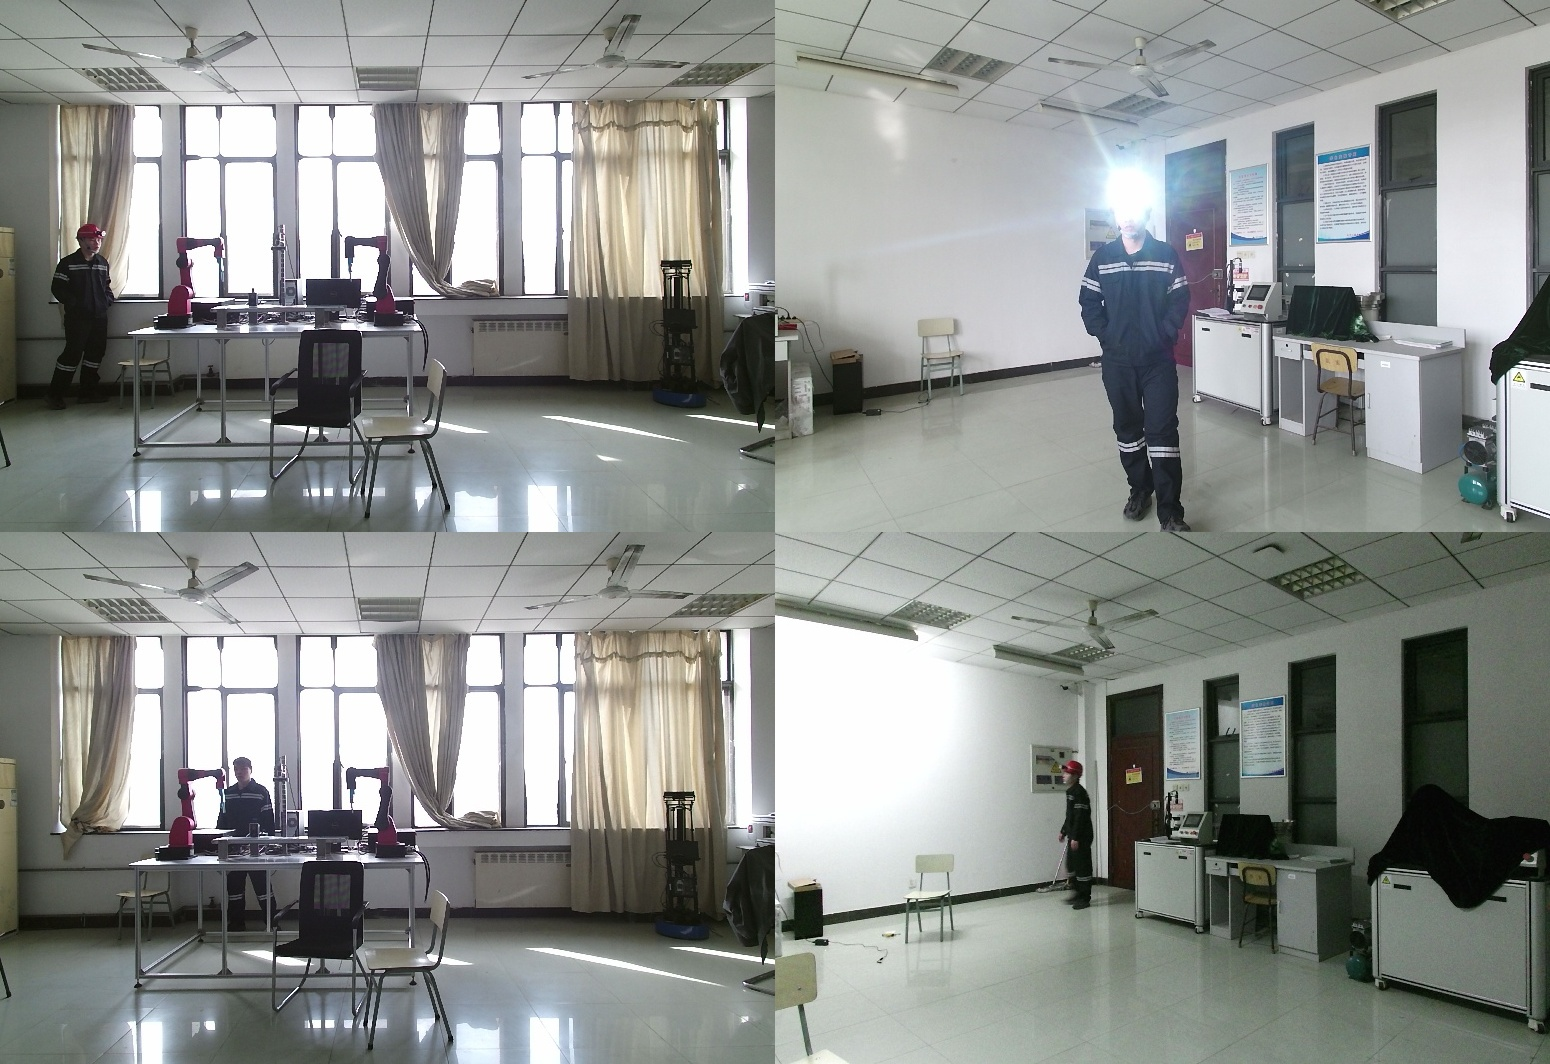person: (1078, 182, 1207, 532), (45, 222, 116, 409), (216, 760, 280, 932), (1057, 761, 1112, 915)
